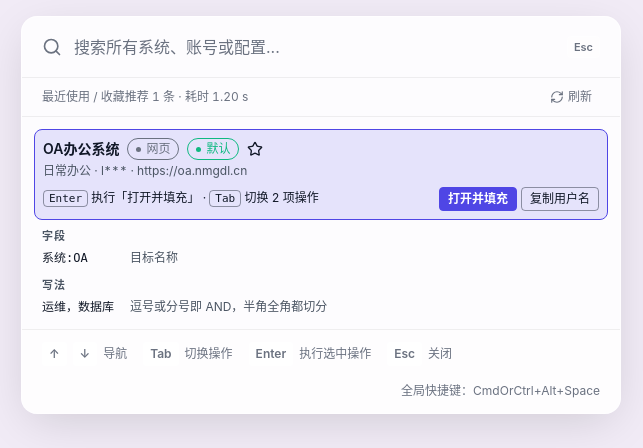
Test: 浮层空输入推荐（需求 §285：由设置启用，锁定时不得显示） › 输入条件后切换为条件搜索：命中摘要替代推荐摘要
Type "OA" into the field named "快速查找账号" at coordinates (320, 47), box [74, 17, 567, 77]
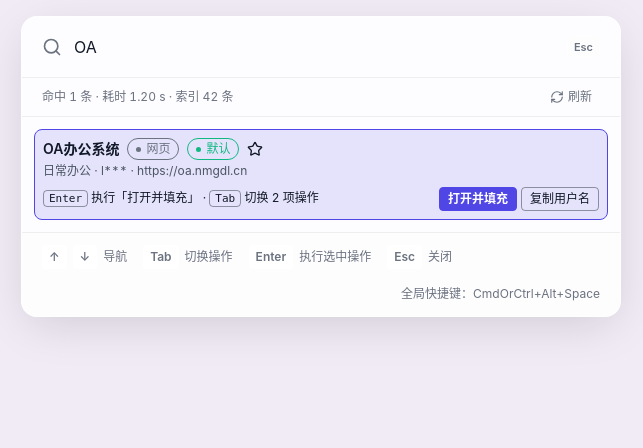
Check: the text "命中 1 条 · 耗时 1.20 s · 索引 42 条" is shown, box [42, 88, 233, 106]
Check: the text "收藏推荐" is gone
